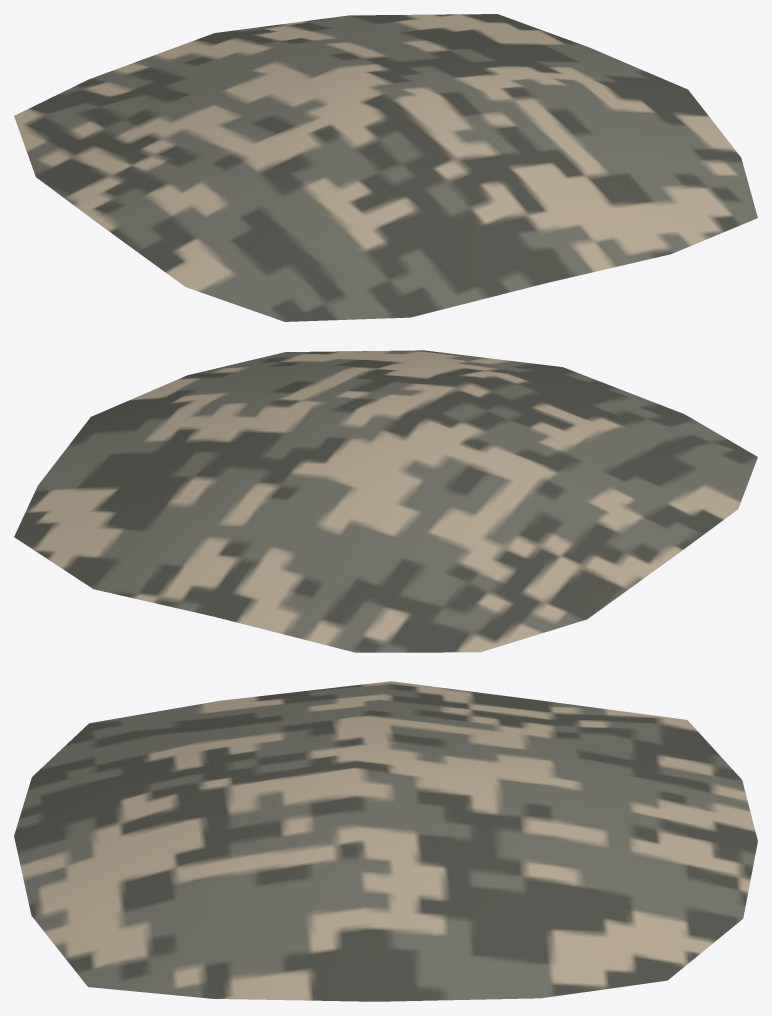
File: SM_Trash_01.fbx
3 renders of one model, top to bottom at view 1: azimuth 30°, elevation 25°; view 2: azimuth 150°, elevation 25°; view 3: azimuth 270°, elevation 25°, orthographic. The views are drawn at different scales.
Visible parts, largest first — view 1: SM_Trash_01; view 2: SM_Trash_01; view 3: SM_Trash_01.
Boxes of the visible parts, x1,y1,x2,y2 form: SM_Trash_01: (14, 14, 757, 321); SM_Trash_01: (14, 350, 757, 652); SM_Trash_01: (14, 681, 757, 1001).
Size of the model in its own units: 113 by 113 by 15.78.
